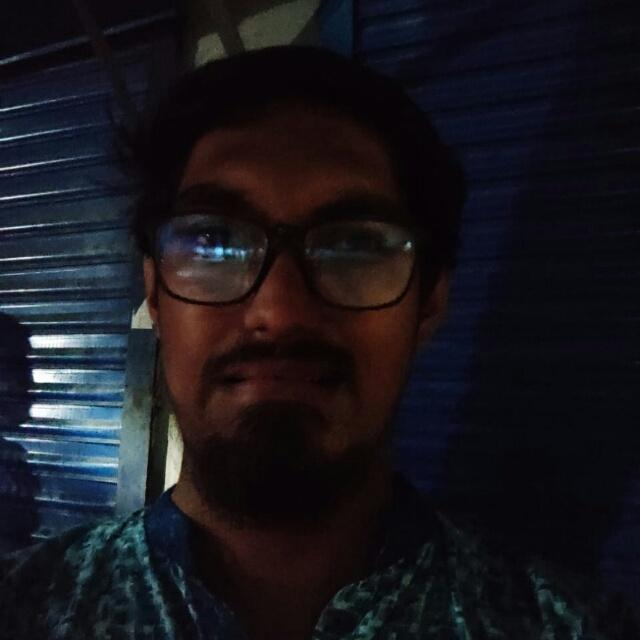Disgust: (106, 62, 465, 497), (86, 80, 94, 82)
